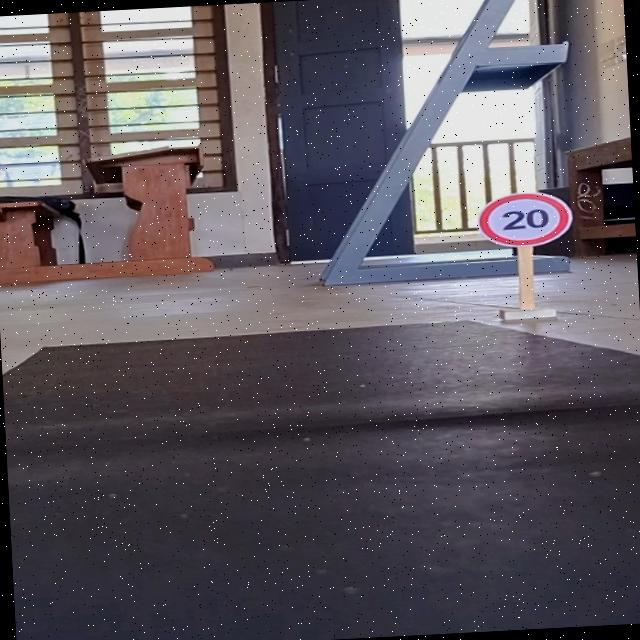Speed20: (474, 186, 579, 252)
